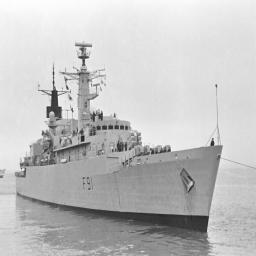Fragata: (14, 34, 226, 239)
